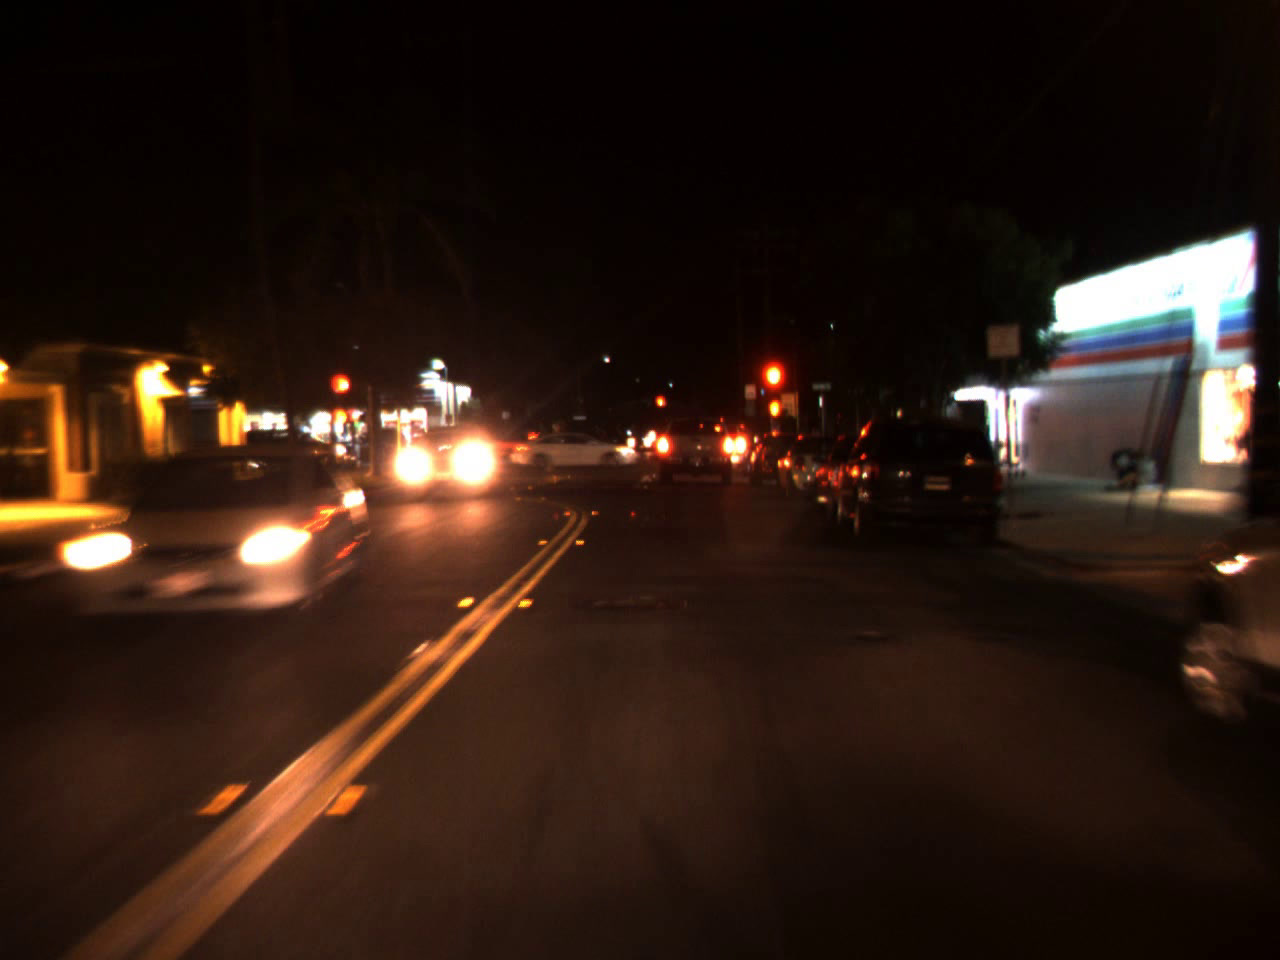stop: (756, 355, 789, 430), (327, 370, 354, 418), (653, 393, 666, 419)
